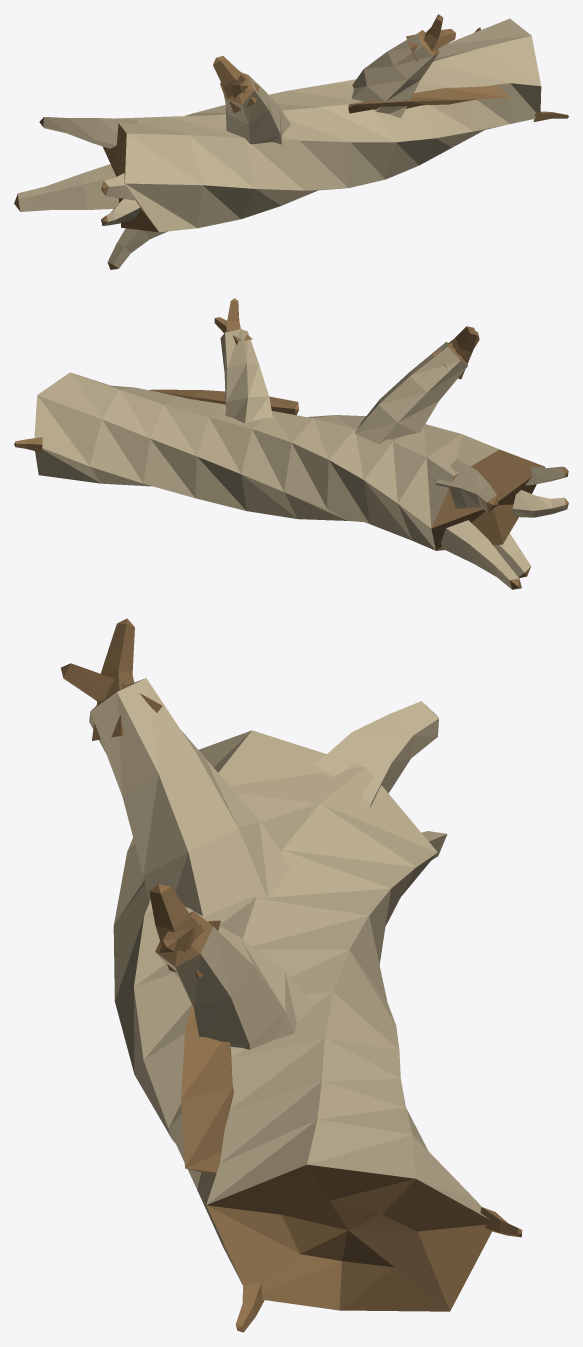
Rendered from driftwood-log-90340b.glb.
The picture shows the model from 3 angles, top to bottom: view 1: azimuth 30°, elevation 25°; view 2: azimuth 150°, elevation 25°; view 3: azimuth 270°, elevation 25°; orthographic projection. The views are drawn at different scales.
Visible parts, largest first — view 1: log; view 2: log; view 3: log.
Boxes of the visible parts, bbox=[...] form: log: bbox=[14, 14, 568, 269]; log: bbox=[14, 298, 568, 589]; log: bbox=[61, 618, 522, 1332].
Size of the model in its own units: 2.02 by 0.8146 by 0.8058.
